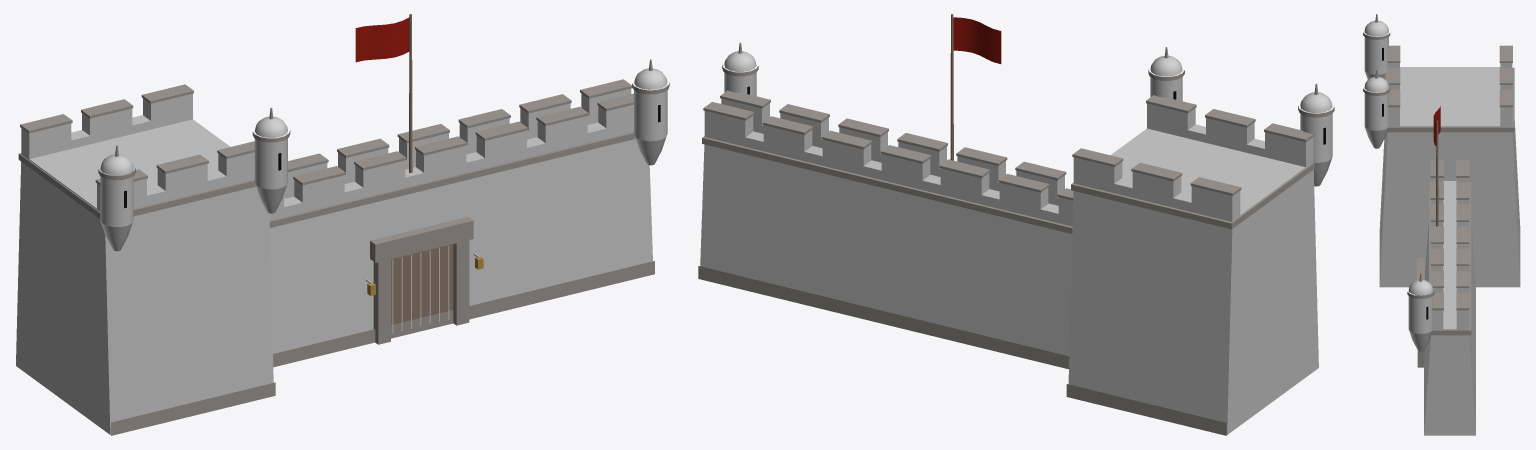
File: SM_Art_Settlement_Fort_4.gltf
3 views of the same model, side by side, from view 1: azimuth 30°, elevation 25°; view 2: azimuth 150°, elevation 25°; view 3: azimuth 270°, elevation 25° (orthographic). The views are drawn at different scales.
Parts seen in each view (by area): view 1: SM_Art_Settlement_Fort_4; view 2: SM_Art_Settlement_Fort_4; view 3: SM_Art_Settlement_Fort_4.
Part boxes in pixels (left/top/right/bottom): SM_Art_Settlement_Fort_4: left=16, top=14, right=669, bottom=435; SM_Art_Settlement_Fort_4: left=698, top=14, right=1334, bottom=435; SM_Art_Settlement_Fort_4: left=1363, top=14, right=1520, bottom=435.
Size of the model in its own units: 25.5 by 12.65 by 7.91.
